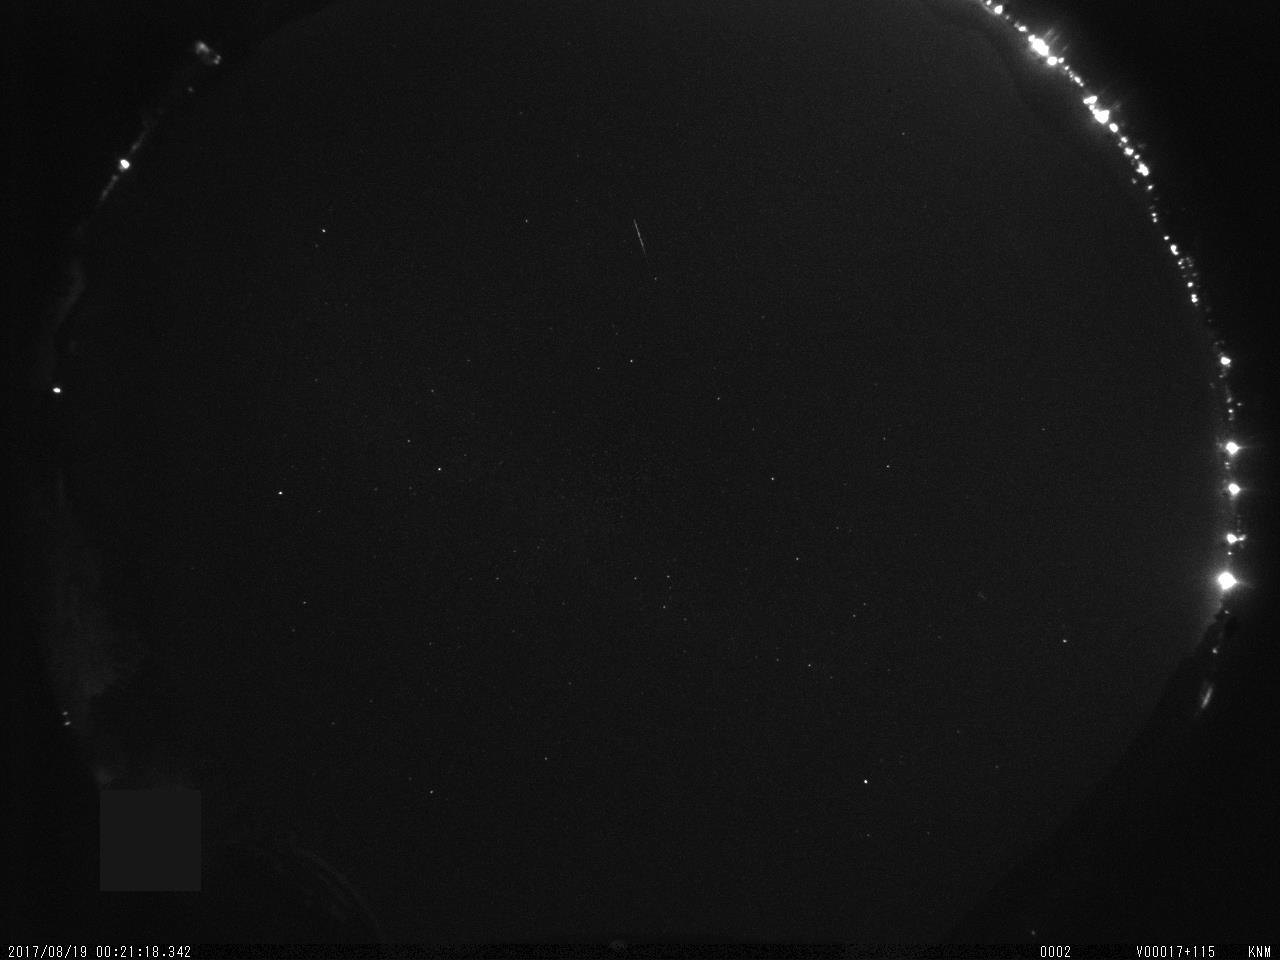meteor: (625, 213, 658, 265)
